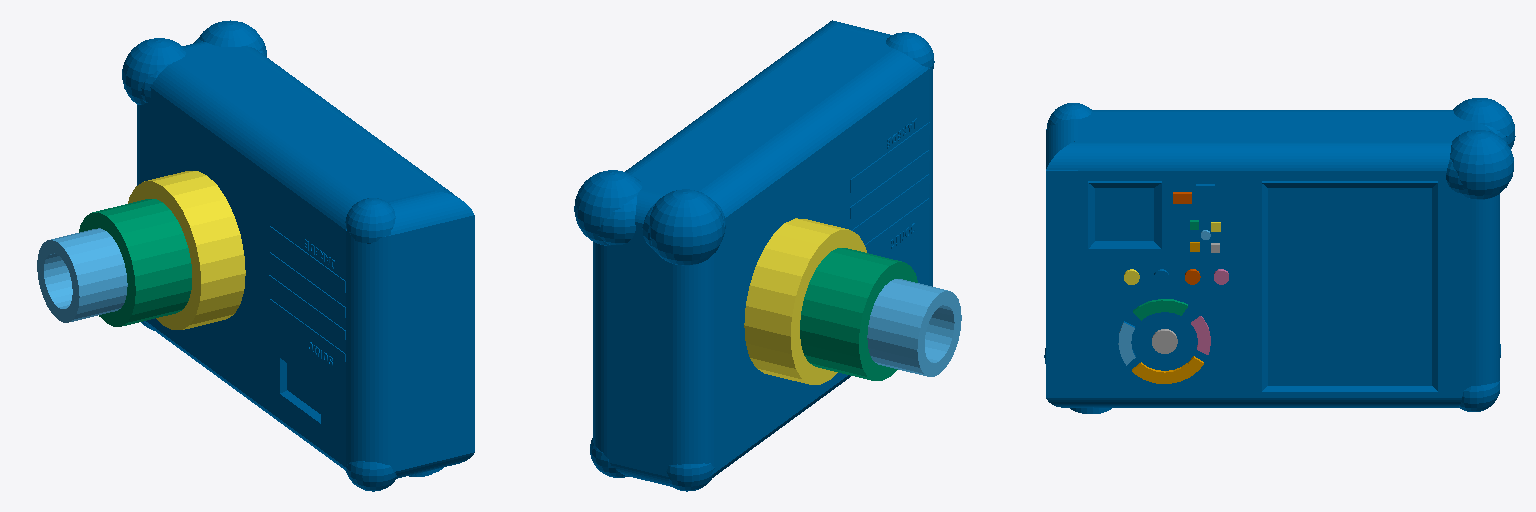
--- Render facts (derived) ---
Views: 3 orthographic renders of the robot side by side, from view 1: azimuth 30°, elevation 25°; view 2: azimuth 150°, elevation 25°; view 3: azimuth 270°, elevation 25°.
Model partnet_3d2c8bbab810c2de8ec5129c0f183bb9 with 21 links and 20 joints (3 continuous, 16 prismatic, 1 fixed), rooted at base, posed every joint at zero.
Links seen in each view (by area): view 1: link_19, link_2, link_1, link_0; view 2: link_19, link_2, link_1, link_0; view 3: link_19, link_15, link_17.
Link boxes in pixels (<box>): link_19: <box>122,20,474,491</box>; link_2: <box>128,171,245,329</box>; link_1: <box>79,199,191,326</box>; link_0: <box>37,228,127,322</box>; link_19: <box>574,20,934,491</box>; link_2: <box>744,218,866,384</box>; link_1: <box>800,248,917,380</box>; link_0: <box>867,279,961,376</box>; link_19: <box>1044,98,1515,413</box>; link_15: <box>1132,356,1203,383</box>; link_17: <box>1133,299,1187,320</box>.
Size in the robot's own frame: 1.15 by 1.77 by 1.16 metres.
89 mesh visuals loaded from 89 distinct referenced files (89 OBJ).

URDF robot description (partnet_3d2c8bbab810c2de8ec5129c0f183bb9):
<?xml version="1.0" ?>
<robot name="partnet_3d2c8bbab810c2de8ec5129c0f183bb9">
	<link name="base"/>
	<link name="link_0">
		<visual name="lens-1">
			<origin xyz="0.23602050000000002 -0.007778355714815319 0"/>
			<geometry>
				<mesh filename="textured_objs/original-38.obj"/>
			</geometry>
		</visual>
		<visual name="lens-1">
			<origin xyz="0.23602050000000002 -0.007778355714815319 0"/>
			<geometry>
				<mesh filename="textured_objs/original-48.obj"/>
			</geometry>
		</visual>
		<collision>
			<origin xyz="0.23602050000000002 -0.007778355714815319 0"/>
			<geometry>
				<mesh filename="textured_objs/original-38.obj"/>
			</geometry>
		</collision>
		<collision>
			<origin xyz="0.23602050000000002 -0.007778355714815319 0"/>
			<geometry>
				<mesh filename="textured_objs/original-48.obj"/>
			</geometry>
		</collision>
	</link>
	<joint name="joint_0" type="continuous">
		<origin xyz="-0.23602050000000002 0.007778355714815319 0"/>
		<axis xyz="0 0 -1"/>
		<child link="link_0"/>
		<parent link="link_19"/>
	</joint>
	<link name="link_1">
		<visual name="lens-2">
			<origin xyz="0.23602050000000002 -0.007778355714815319 0"/>
			<geometry>
				<mesh filename="textured_objs/original-46.obj"/>
			</geometry>
		</visual>
		<collision>
			<origin xyz="0.23602050000000002 -0.007778355714815319 0"/>
			<geometry>
				<mesh filename="textured_objs/original-46.obj"/>
			</geometry>
		</collision>
	</link>
	<joint name="joint_1" type="continuous">
		<origin xyz="-0.23602050000000002 0.007778355714815319 0"/>
		<axis xyz="0 0 -1"/>
		<child link="link_1"/>
		<parent link="link_19"/>
	</joint>
	<link name="link_2">
		<visual name="lens-3">
			<origin xyz="0.23602050000000002 -0.007778355714815319 0"/>
			<geometry>
				<mesh filename="textured_objs/original-47.obj"/>
			</geometry>
		</visual>
		<collision>
			<origin xyz="0.23602050000000002 -0.007778355714815319 0"/>
			<geometry>
				<mesh filename="textured_objs/original-47.obj"/>
			</geometry>
		</collision>
	</link>
	<joint name="joint_2" type="continuous">
		<origin xyz="-0.23602050000000002 0.007778355714815319 0"/>
		<axis xyz="0 0 -1"/>
		<child link="link_2"/>
		<parent link="link_19"/>
	</joint>
	<link name="link_3">
		<visual name="button-4">
			<origin xyz="0 0 0"/>
			<geometry>
				<mesh filename="textured_objs/original-10.obj"/>
			</geometry>
		</visual>
		<collision>
			<origin xyz="0 0 0"/>
			<geometry>
				<mesh filename="textured_objs/original-10.obj"/>
			</geometry>
		</collision>
	</link>
	<joint name="joint_3" type="prismatic">
		<origin xyz="0 0 0"/>
		<axis xyz="0 0 1"/>
		<child link="link_3"/>
		<parent link="link_19"/>
		<limit lower="0" upper="0.01200000000000001"/>
	</joint>
	<link name="link_4">
		<visual name="button-5">
			<origin xyz="0 0 0"/>
			<geometry>
				<mesh filename="textured_objs/original-16.obj"/>
			</geometry>
		</visual>
		<collision>
			<origin xyz="0 0 0"/>
			<geometry>
				<mesh filename="textured_objs/original-16.obj"/>
			</geometry>
		</collision>
	</link>
	<joint name="joint_4" type="prismatic">
		<origin xyz="0 0 0"/>
		<axis xyz="0 0 1"/>
		<child link="link_4"/>
		<parent link="link_19"/>
		<limit lower="0" upper="0.01200000000000001"/>
	</joint>
	<link name="link_5">
		<visual name="button-6">
			<origin xyz="0 0 0"/>
			<geometry>
				<mesh filename="textured_objs/original-31.obj"/>
			</geometry>
		</visual>
		<collision>
			<origin xyz="0 0 0"/>
			<geometry>
				<mesh filename="textured_objs/original-31.obj"/>
			</geometry>
		</collision>
	</link>
	<joint name="joint_5" type="prismatic">
		<origin xyz="0 0 0"/>
		<axis xyz="0 0 1"/>
		<child link="link_5"/>
		<parent link="link_19"/>
		<limit lower="0" upper="0.01200000000000001"/>
	</joint>
	<link name="link_6">
		<visual name="button-7">
			<origin xyz="0 0 0"/>
			<geometry>
				<mesh filename="textured_objs/original-42.obj"/>
			</geometry>
		</visual>
		<collision>
			<origin xyz="0 0 0"/>
			<geometry>
				<mesh filename="textured_objs/original-42.obj"/>
			</geometry>
		</collision>
	</link>
	<joint name="joint_6" type="prismatic">
		<origin xyz="0 0 0"/>
		<axis xyz="0 0 1"/>
		<child link="link_6"/>
		<parent link="link_19"/>
		<limit lower="0" upper="0.01200000000000001"/>
	</joint>
	<link name="link_7">
		<visual name="button-8">
			<origin xyz="0 0 0"/>
			<geometry>
				<mesh filename="textured_objs/original-28.obj"/>
			</geometry>
		</visual>
		<collision>
			<origin xyz="0 0 0"/>
			<geometry>
				<mesh filename="textured_objs/original-28.obj"/>
			</geometry>
		</collision>
	</link>
	<joint name="joint_7" type="prismatic">
		<origin xyz="0 0 0"/>
		<axis xyz="0 0 1"/>
		<child link="link_7"/>
		<parent link="link_19"/>
		<limit lower="0" upper="0.01200000000000001"/>
	</joint>
	<link name="link_8">
		<visual name="button-9">
			<origin xyz="0 0 0"/>
			<geometry>
				<mesh filename="textured_objs/original-15.obj"/>
			</geometry>
		</visual>
		<collision>
			<origin xyz="0 0 0"/>
			<geometry>
				<mesh filename="textured_objs/original-15.obj"/>
			</geometry>
		</collision>
	</link>
	<joint name="joint_8" type="prismatic">
		<origin xyz="0 0 0"/>
		<axis xyz="0 0 1"/>
		<child link="link_8"/>
		<parent link="link_19"/>
		<limit lower="0" upper="0.01200000000000001"/>
	</joint>
	<link name="link_9">
		<visual name="button-10">
			<origin xyz="0 0 0"/>
			<geometry>
				<mesh filename="textured_objs/original-56.obj"/>
			</geometry>
		</visual>
		<collision>
			<origin xyz="0 0 0"/>
			<geometry>
				<mesh filename="textured_objs/original-56.obj"/>
			</geometry>
		</collision>
	</link>
	<joint name="joint_9" type="prismatic">
		<origin xyz="0 0 0"/>
		<axis xyz="0 0 1"/>
		<child link="link_9"/>
		<parent link="link_19"/>
		<limit lower="0" upper="0.01200000000000001"/>
	</joint>
	<link name="link_10">
		<visual name="button-11">
			<origin xyz="0 0 0"/>
			<geometry>
				<mesh filename="textured_objs/original-30.obj"/>
			</geometry>
		</visual>
		<collision>
			<origin xyz="0 0 0"/>
			<geometry>
				<mesh filename="textured_objs/original-30.obj"/>
			</geometry>
		</collision>
	</link>
	<joint name="joint_10" type="prismatic">
		<origin xyz="0 0 0"/>
		<axis xyz="0 0 1"/>
		<child link="link_10"/>
		<parent link="link_19"/>
		<limit lower="0" upper="0.01200000000000001"/>
	</joint>
	<link name="link_11">
		<visual name="button-12">
			<origin xyz="0 0 0"/>
			<geometry>
				<mesh filename="textured_objs/original-61.obj"/>
			</geometry>
		</visual>
		<collision>
			<origin xyz="0 0 0"/>
			<geometry>
				<mesh filename="textured_objs/original-61.obj"/>
			</geometry>
		</collision>
	</link>
	<joint name="joint_11" type="prismatic">
		<origin xyz="0 0 0"/>
		<axis xyz="0 0 1"/>
		<child link="link_11"/>
		<parent link="link_19"/>
		<limit lower="0" upper="0.01200000000000001"/>
	</joint>
	<link name="link_12">
		<visual name="button-13">
			<origin xyz="0 0 0"/>
			<geometry>
				<mesh filename="textured_objs/original-58.obj"/>
			</geometry>
		</visual>
		<collision>
			<origin xyz="0 0 0"/>
			<geometry>
				<mesh filename="textured_objs/original-58.obj"/>
			</geometry>
		</collision>
	</link>
	<joint name="joint_12" type="prismatic">
		<origin xyz="0 0 0"/>
		<axis xyz="0 0 1"/>
		<child link="link_12"/>
		<parent link="link_19"/>
		<limit lower="0" upper="0.01200000000000001"/>
	</joint>
	<link name="link_13">
		<visual name="button-18">
			<origin xyz="0 0 0"/>
			<geometry>
				<mesh filename="textured_objs/original-22.obj"/>
			</geometry>
		</visual>
		<collision>
			<origin xyz="0 0 0"/>
			<geometry>
				<mesh filename="textured_objs/original-22.obj"/>
			</geometry>
		</collision>
	</link>
	<joint name="joint_13" type="prismatic">
		<origin xyz="0 0 0"/>
		<axis xyz="0 0 1"/>
		<child link="link_13"/>
		<parent link="link_19"/>
		<limit lower="0" upper="0.01200000000000001"/>
	</joint>
	<link name="link_14">
		<visual name="button-19">
			<origin xyz="0 0 0"/>
			<geometry>
				<mesh filename="textured_objs/original-13.obj"/>
			</geometry>
		</visual>
		<collision>
			<origin xyz="0 0 0"/>
			<geometry>
				<mesh filename="textured_objs/original-13.obj"/>
			</geometry>
		</collision>
	</link>
	<joint name="joint_14" type="prismatic">
		<origin xyz="0 0 0"/>
		<axis xyz="0 0 1"/>
		<child link="link_14"/>
		<parent link="link_19"/>
		<limit lower="0" upper="0.01200000000000001"/>
	</joint>
	<link name="link_15">
		<visual name="button-20">
			<origin xyz="0 0 0"/>
			<geometry>
				<mesh filename="textured_objs/original-20.obj"/>
			</geometry>
		</visual>
		<collision>
			<origin xyz="0 0 0"/>
			<geometry>
				<mesh filename="textured_objs/original-20.obj"/>
			</geometry>
		</collision>
	</link>
	<joint name="joint_15" type="prismatic">
		<origin xyz="0 0 0"/>
		<axis xyz="0 0 1"/>
		<child link="link_15"/>
		<parent link="link_19"/>
		<limit lower="0" upper="0.01200000000000001"/>
	</joint>
	<link name="link_16">
		<visual name="button-21">
			<origin xyz="0 0 0"/>
			<geometry>
				<mesh filename="textured_objs/original-9.obj"/>
			</geometry>
		</visual>
		<collision>
			<origin xyz="0 0 0"/>
			<geometry>
				<mesh filename="textured_objs/original-9.obj"/>
			</geometry>
		</collision>
	</link>
	<joint name="joint_16" type="prismatic">
		<origin xyz="0 0 0"/>
		<axis xyz="0 0 1"/>
		<child link="link_16"/>
		<parent link="link_19"/>
		<limit lower="0" upper="0.01200000000000001"/>
	</joint>
	<link name="link_17">
		<visual name="button-22">
			<origin xyz="0 0 0"/>
			<geometry>
				<mesh filename="textured_objs/original-5.obj"/>
			</geometry>
		</visual>
		<collision>
			<origin xyz="0 0 0"/>
			<geometry>
				<mesh filename="textured_objs/original-5.obj"/>
			</geometry>
		</collision>
	</link>
	<joint name="joint_17" type="prismatic">
		<origin xyz="0 0 0"/>
		<axis xyz="0 0 1"/>
		<child link="link_17"/>
		<parent link="link_19"/>
		<limit lower="0" upper="0.01200000000000001"/>
	</joint>
	<link name="link_18">
		<visual name="button-23">
			<origin xyz="0 0 0"/>
			<geometry>
				<mesh filename="textured_objs/original-40.obj"/>
			</geometry>
		</visual>
		<collision>
			<origin xyz="0 0 0"/>
			<geometry>
				<mesh filename="textured_objs/original-40.obj"/>
			</geometry>
		</collision>
	</link>
	<joint name="joint_18" type="prismatic">
		<origin xyz="0 0 0"/>
		<axis xyz="0 0 1"/>
		<child link="link_18"/>
		<parent link="link_19"/>
		<limit lower="0" upper="0.01200000000000001"/>
	</joint>
	<link name="link_19">
		<visual name="base_body-24">
			<origin xyz="0 0 0"/>
			<geometry>
				<mesh filename="textured_objs/original-29.obj"/>
			</geometry>
		</visual>
		<visual name="base_body-24">
			<origin xyz="0 0 0"/>
			<geometry>
				<mesh filename="textured_objs/original-21.obj"/>
			</geometry>
		</visual>
		<visual name="base_body-24">
			<origin xyz="0 0 0"/>
			<geometry>
				<mesh filename="textured_objs/original-36.obj"/>
			</geometry>
		</visual>
		<visual name="base_body-24">
			<origin xyz="0 0 0"/>
			<geometry>
				<mesh filename="textured_objs/original-41.obj"/>
			</geometry>
		</visual>
		<visual name="base_body-24">
			<origin xyz="0 0 0"/>
			<geometry>
				<mesh filename="textured_objs/original-64.obj"/>
			</geometry>
		</visual>
		<visual name="base_body-24">
			<origin xyz="0 0 0"/>
			<geometry>
				<mesh filename="textured_objs/original-43.obj"/>
			</geometry>
		</visual>
		<visual name="base_body-24">
			<origin xyz="0 0 0"/>
			<geometry>
				<mesh filename="textured_objs/original-71.obj"/>
			</geometry>
		</visual>
		<visual name="base_body-24">
			<origin xyz="0 0 0"/>
			<geometry>
				<mesh filename="textured_objs/original-52.obj"/>
			</geometry>
		</visual>
		<visual name="base_body-24">
			<origin xyz="0 0 0"/>
			<geometry>
				<mesh filename="textured_objs/original-83.obj"/>
			</geometry>
		</visual>
		<visual name="base_body-24">
			<origin xyz="0 0 0"/>
			<geometry>
				<mesh filename="textured_objs/original-26.obj"/>
			</geometry>
		</visual>
		<visual name="base_body-24">
			<origin xyz="0 0 0"/>
			<geometry>
				<mesh filename="textured_objs/original-4.obj"/>
			</geometry>
		</visual>
		<visual name="base_body-24">
			<origin xyz="0 0 0"/>
			<geometry>
				<mesh filename="textured_objs/original-3.obj"/>
			</geometry>
		</visual>
		<visual name="base_body-24">
			<origin xyz="0 0 0"/>
			<geometry>
				<mesh filename="textured_objs/original-65.obj"/>
			</geometry>
		</visual>
		<visual name="base_body-24">
			<origin xyz="0 0 0"/>
			<geometry>
				<mesh filename="textured_objs/original-33.obj"/>
			</geometry>
		</visual>
		<visual name="base_body-24">
			<origin xyz="0 0 0"/>
			<geometry>
				<mesh filename="textured_objs/original-2.obj"/>
			</geometry>
		</visual>
		<visual name="base_body-24">
			<origin xyz="0 0 0"/>
			<geometry>
				<mesh filename="textured_objs/original-44.obj"/>
			</geometry>
		</visual>
		<visual name="base_body-24">
			<origin xyz="0 0 0"/>
			<geometry>
				<mesh filename="textured_objs/original-86.obj"/>
			</geometry>
		</visual>
		<visual name="base_body-24">
			<origin xyz="0 0 0"/>
			<geometry>
				<mesh filename="textured_objs/original-8.obj"/>
			</geometry>
		</visual>
		<visual name="base_body-24">
			<origin xyz="0 0 0"/>
			<geometry>
				<mesh filename="textured_objs/original-45.obj"/>
			</geometry>
		</visual>
		<visual name="base_body-24">
			<origin xyz="0 0 0"/>
			<geometry>
				<mesh filename="textured_objs/original-35.obj"/>
			</geometry>
		</visual>
		<visual name="base_body-24">
			<origin xyz="0 0 0"/>
			<geometry>
				<mesh filename="textured_objs/original-49.obj"/>
			</geometry>
		</visual>
		<visual name="base_body-24">
			<origin xyz="0 0 0"/>
			<geometry>
				<mesh filename="textured_objs/original-39.obj"/>
			</geometry>
		</visual>
		<visual name="base_body-24">
			<origin xyz="0 0 0"/>
			<geometry>
				<mesh filename="textured_objs/original-59.obj"/>
			</geometry>
		</visual>
		<visual name="base_body-24">
			<origin xyz="0 0 0"/>
			<geometry>
				<mesh filename="textured_objs/original-77.obj"/>
			</geometry>
		</visual>
		<visual name="base_body-24">
			<origin xyz="0 0 0"/>
			<geometry>
				<mesh filename="textured_objs/original-54.obj"/>
			</geometry>
		</visual>
		<visual name="base_body-24">
			<origin xyz="0 0 0"/>
			<geometry>
				<mesh filename="textured_objs/original-63.obj"/>
			</geometry>
		</visual>
		<visual name="base_body-24">
			<origin xyz="0 0 0"/>
			<geometry>
				<mesh filename="textured_objs/original-27.obj"/>
			</geometry>
		</visual>
		<visual name="base_body-24">
			<origin xyz="0 0 0"/>
			<geometry>
				<mesh filename="textured_objs/original-87.obj"/>
			</geometry>
		</visual>
		<visual name="base_body-24">
			<origin xyz="0 0 0"/>
			<geometry>
				<mesh filename="textured_objs/original-55.obj"/>
			</geometry>
		</visual>
		<visual name="base_body-24">
			<origin xyz="0 0 0"/>
			<geometry>
				<mesh filename="textured_objs/original-50.obj"/>
			</geometry>
		</visual>
		<visual name="base_body-24">
			<origin xyz="0 0 0"/>
			<geometry>
				<mesh filename="textured_objs/original-6.obj"/>
			</geometry>
		</visual>
		<visual name="base_body-24">
			<origin xyz="0 0 0"/>
			<geometry>
				<mesh filename="textured_objs/original-37.obj"/>
			</geometry>
		</visual>
		<visual name="base_body-24">
			<origin xyz="0 0 0"/>
			<geometry>
				<mesh filename="textured_objs/original-85.obj"/>
			</geometry>
		</visual>
		<visual name="base_body-24">
			<origin xyz="0 0 0"/>
			<geometry>
				<mesh filename="textured_objs/original-76.obj"/>
			</geometry>
		</visual>
		<visual name="base_body-24">
			<origin xyz="0 0 0"/>
			<geometry>
				<mesh filename="textured_objs/original-72.obj"/>
			</geometry>
		</visual>
		<visual name="base_body-24">
			<origin xyz="0 0 0"/>
			<geometry>
				<mesh filename="textured_objs/original-62.obj"/>
			</geometry>
		</visual>
		<visual name="base_body-24">
			<origin xyz="0 0 0"/>
			<geometry>
				<mesh filename="textured_objs/original-75.obj"/>
			</geometry>
		</visual>
		<visual name="base_body-24">
			<origin xyz="0 0 0"/>
			<geometry>
				<mesh filename="textured_objs/original-23.obj"/>
			</geometry>
		</visual>
		<visual name="base_body-24">
			<origin xyz="0 0 0"/>
			<geometry>
				<mesh filename="textured_objs/original-66.obj"/>
			</geometry>
		</visual>
		<visual name="base_body-24">
			<origin xyz="0 0 0"/>
			<geometry>
				<mesh filename="textured_objs/original-67.obj"/>
			</geometry>
		</visual>
		<visual name="base_body-24">
			<origin xyz="0 0 0"/>
			<geometry>
				<mesh filename="textured_objs/original-69.obj"/>
			</geometry>
		</visual>
		<visual name="base_body-24">
			<origin xyz="0 0 0"/>
			<geometry>
				<mesh filename="textured_objs/original-11.obj"/>
			</geometry>
		</visual>
		<visual name="base_body-24">
			<origin xyz="0 0 0"/>
			<geometry>
				<mesh filename="textured_objs/original-68.obj"/>
			</geometry>
		</visual>
		<visual name="base_body-24">
			<origin xyz="0 0 0"/>
			<geometry>
				<mesh filename="textured_objs/original-80.obj"/>
			</geometry>
		</visual>
		<visual name="base_body-24">
			<origin xyz="0 0 0"/>
			<geometry>
				<mesh filename="textured_objs/original-34.obj"/>
			</geometry>
		</visual>
		<visual name="base_body-24">
			<origin xyz="0 0 0"/>
			<geometry>
				<mesh filename="textured_objs/original-18.obj"/>
			</geometry>
		</visual>
		<visual name="base_body-24">
			<origin xyz="0 0 0"/>
			<geometry>
				<mesh filename="textured_objs/original-70.obj"/>
			</geometry>
		</visual>
		<visual name="base_body-24">
			<origin xyz="0 0 0"/>
			<geometry>
				<mesh filename="textured_objs/original-91.obj"/>
			</geometry>
		</visual>
		<visual name="base_body-24">
			<origin xyz="0 0 0"/>
			<geometry>
				<mesh filename="textured_objs/original-25.obj"/>
			</geometry>
		</visual>
		<visual name="base_body-24">
			<origin xyz="0 0 0"/>
			<geometry>
				<mesh filename="textured_objs/original-17.obj"/>
			</geometry>
		</visual>
		<visual name="base_body-24">
			<origin xyz="0 0 0"/>
			<geometry>
				<mesh filename="textured_objs/original-73.obj"/>
			</geometry>
		</visual>
		<visual name="base_body-24">
			<origin xyz="0 0 0"/>
			<geometry>
				<mesh filename="textured_objs/original-12.obj"/>
			</geometry>
		</visual>
		<visual name="base_body-24">
			<origin xyz="0 0 0"/>
			<geometry>
				<mesh filename="textured_objs/original-92.obj"/>
			</geometry>
		</visual>
		<visual name="base_body-24">
			<origin xyz="0 0 0"/>
			<geometry>
				<mesh filename="textured_objs/original-79.obj"/>
			</geometry>
		</visual>
		<visual name="base_body-24">
			<origin xyz="0 0 0"/>
			<geometry>
				<mesh filename="textured_objs/original-24.obj"/>
			</geometry>
		</visual>
		<visual name="base_body-24">
			<origin xyz="0 0 0"/>
			<geometry>
				<mesh filename="textured_objs/original-88.obj"/>
			</geometry>
		</visual>
		<visual name="base_body-24">
			<origin xyz="0 0 0"/>
			<geometry>
				<mesh filename="textured_objs/original-32.obj"/>
			</geometry>
		</visual>
		<visual name="base_body-24">
			<origin xyz="0 0 0"/>
			<geometry>
				<mesh filename="textured_objs/original-53.obj"/>
			</geometry>
		</visual>
		<visual name="base_body-24">
			<origin xyz="0 0 0"/>
			<geometry>
				<mesh filename="textured_objs/original-7.obj"/>
			</geometry>
		</visual>
		<visual name="base_body-24">
			<origin xyz="0 0 0"/>
			<geometry>
				<mesh filename="textured_objs/original-1.obj"/>
			</geometry>
		</visual>
		<visual name="base_body-24">
			<origin xyz="0 0 0"/>
			<geometry>
				<mesh filename="textured_objs/original-84.obj"/>
			</geometry>
		</visual>
		<visual name="base_body-24">
			<origin xyz="0 0 0"/>
			<geometry>
				<mesh filename="textured_objs/original-78.obj"/>
			</geometry>
		</visual>
		<visual name="base_body-24">
			<origin xyz="0 0 0"/>
			<geometry>
				<mesh filename="textured_objs/original-89.obj"/>
			</geometry>
		</visual>
		<visual name="base_body-24">
			<origin xyz="0 0 0"/>
			<geometry>
				<mesh filename="textured_objs/original-14.obj"/>
			</geometry>
		</visual>
		<visual name="base_body-24">
			<origin xyz="0 0 0"/>
			<geometry>
				<mesh filename="textured_objs/original-82.obj"/>
			</geometry>
		</visual>
		<visual name="base_body-24">
			<origin xyz="0 0 0"/>
			<geometry>
				<mesh filename="textured_objs/original-60.obj"/>
			</geometry>
		</visual>
		<visual name="base_body-24">
			<origin xyz="0 0 0"/>
			<geometry>
				<mesh filename="textured_objs/original-19.obj"/>
			</geometry>
		</visual>
		<visual name="base_body-24">
			<origin xyz="0 0 0"/>
			<geometry>
				<mesh filename="textured_objs/original-90.obj"/>
			</geometry>
		</visual>
		<visual name="base_body-24">
			<origin xyz="0 0 0"/>
			<geometry>
				<mesh filename="textured_objs/original-57.obj"/>
			</geometry>
		</visual>
		<collision>
			<origin xyz="0 0 0"/>
			<geometry>
				<mesh filename="textured_objs/original-29.obj"/>
			</geometry>
		</collision>
		<collision>
			<origin xyz="0 0 0"/>
			<geometry>
				<mesh filename="textured_objs/original-21.obj"/>
			</geometry>
		</collision>
		<collision>
			<origin xyz="0 0 0"/>
			<geometry>
				<mesh filename="textured_objs/original-36.obj"/>
			</geometry>
		</collision>
		<collision>
			<origin xyz="0 0 0"/>
			<geometry>
				<mesh filename="textured_objs/original-41.obj"/>
			</geometry>
		</collision>
		<collision>
			<origin xyz="0 0 0"/>
			<geometry>
				<mesh filename="textured_objs/original-64.obj"/>
			</geometry>
		</collision>
		<collision>
			<origin xyz="0 0 0"/>
			<geometry>
				<mesh filename="textured_objs/original-43.obj"/>
			</geometry>
		</collision>
		<collision>
			<origin xyz="0 0 0"/>
			<geometry>
				<mesh filename="textured_objs/original-71.obj"/>
			</geometry>
		</collision>
		<collision>
			<origin xyz="0 0 0"/>
			<geometry>
				<mesh filename="textured_objs/original-52.obj"/>
			</geometry>
		</collision>
		<collision>
			<origin xyz="0 0 0"/>
			<geometry>
				<mesh filename="textured_objs/original-83.obj"/>
			</geometry>
		</collision>
		<collision>
			<origin xyz="0 0 0"/>
			<geometry>
				<mesh filename="textured_objs/original-26.obj"/>
			</geometry>
		</collision>
		<collision>
			<origin xyz="0 0 0"/>
			<geometry>
				<mesh filename="textured_objs/original-4.obj"/>
			</geometry>
		</collision>
		<collision>
			<origin xyz="0 0 0"/>
			<geometry>
				<mesh filename="textured_objs/original-3.obj"/>
			</geometry>
		</collision>
		<collision>
			<origin xyz="0 0 0"/>
			<geometry>
				<mesh filename="textured_objs/original-65.obj"/>
			</geometry>
		</collision>
		<collision>
			<origin xyz="0 0 0"/>
			<geometry>
				<mesh filename="textured_objs/original-33.obj"/>
			</geometry>
		</collision>
		<collision>
			<origin xyz="0 0 0"/>
			<geometry>
				<mesh filename="textured_objs/original-2.obj"/>
			</geometry>
		</collision>
		<collision>
			<origin xyz="0 0 0"/>
			<geometry>
				<mesh filename="textured_objs/original-44.obj"/>
			</geometry>
		</collision>
		<collision>
			<origin xyz="0 0 0"/>
			<geometry>
				<mesh filename="textured_objs/original-86.obj"/>
			</geometry>
		</collision>
		<collision>
			<origin xyz="0 0 0"/>
			<geometry>
				<mesh filename="textured_objs/original-8.obj"/>
			</geometry>
		</collision>
		<collision>
			<origin xyz="0 0 0"/>
			<geometry>
				<mesh filename="textured_objs/original-45.obj"/>
			</geometry>
		</collision>
		<collision>
			<origin xyz="0 0 0"/>
			<geometry>
				<mesh filename="textured_objs/original-35.obj"/>
			</geometry>
		</collision>
		<collision>
			<origin xyz="0 0 0"/>
			<geometry>
				<mesh filename="textured_objs/original-49.obj"/>
			</geometry>
		</collision>
		<collision>
			<origin xyz="0 0 0"/>
			<geometry>
				<mesh filename="textured_objs/original-39.obj"/>
			</geometry>
		</collision>
		<collision>
			<origin xyz="0 0 0"/>
			<geometry>
				<mesh filename="textured_objs/original-59.obj"/>
			</geometry>
		</collision>
		<collision>
			<origin xyz="0 0 0"/>
			<geometry>
				<mesh filename="textured_objs/original-77.obj"/>
			</geometry>
		</collision>
		<collision>
			<origin xyz="0 0 0"/>
			<geometry>
				<mesh filename="textured_objs/original-54.obj"/>
			</geometry>
		</collision>
		<collision>
			<origin xyz="0 0 0"/>
			<geometry>
				<mesh filename="textured_objs/original-63.obj"/>
			</geometry>
		</collision>
		<collision>
			<origin xyz="0 0 0"/>
			<geometry>
				<mesh filename="textured_objs/original-27.obj"/>
			</geometry>
		</collision>
		<collision>
			<origin xyz="0 0 0"/>
			<geometry>
				<mesh filename="textured_objs/original-87.obj"/>
			</geometry>
		</collision>
		<collision>
			<origin xyz="0 0 0"/>
			<geometry>
				<mesh filename="textured_objs/original-55.obj"/>
			</geometry>
		</collision>
		<collision>
			<origin xyz="0 0 0"/>
			<geometry>
				<mesh filename="textured_objs/original-50.obj"/>
			</geometry>
		</collision>
		<collision>
			<origin xyz="0 0 0"/>
			<geometry>
				<mesh filename="textured_objs/original-6.obj"/>
			</geometry>
		</collision>
		<collision>
			<origin xyz="0 0 0"/>
			<geometry>
				<mesh filename="textured_objs/original-37.obj"/>
			</geometry>
		</collision>
		<collision>
			<origin xyz="0 0 0"/>
			<geometry>
				<mesh filename="textured_objs/original-85.obj"/>
			</geometry>
		</collision>
		<collision>
			<origin xyz="0 0 0"/>
			<geometry>
				<mesh filename="textured_objs/original-76.obj"/>
			</geometry>
		</collision>
		<collision>
			<origin xyz="0 0 0"/>
			<geometry>
				<mesh filename="textured_objs/original-72.obj"/>
			</geometry>
		</collision>
		<collision>
			<origin xyz="0 0 0"/>
			<geometry>
				<mesh filename="textured_objs/original-62.obj"/>
			</geometry>
		</collision>
		<collision>
			<origin xyz="0 0 0"/>
			<geometry>
				<mesh filename="textured_objs/original-75.obj"/>
			</geometry>
		</collision>
		<collision>
			<origin xyz="0 0 0"/>
			<geometry>
				<mesh filename="textured_objs/original-23.obj"/>
			</geometry>
		</collision>
		<collision>
			<origin xyz="0 0 0"/>
			<geometry>
				<mesh filename="textured_objs/original-66.obj"/>
			</geometry>
		</collision>
		<collision>
			<origin xyz="0 0 0"/>
			<geometry>
				<mesh filename="textured_objs/original-67.obj"/>
			</geometry>
		</collision>
		<collision>
			<origin xyz="0 0 0"/>
			<geometry>
				<mesh filename="textured_objs/original-69.obj"/>
			</geometry>
		</collision>
		<collision>
			<origin xyz="0 0 0"/>
			<geometry>
				<mesh filename="textured_objs/original-11.obj"/>
			</geometry>
		</collision>
		<collision>
			<origin xyz="0 0 0"/>
			<geometry>
				<mesh filename="textured_objs/original-68.obj"/>
			</geometry>
		</collision>
		<collision>
			<origin xyz="0 0 0"/>
			<geometry>
				<mesh filename="textured_objs/original-80.obj"/>
			</geometry>
		</collision>
		<collision>
			<origin xyz="0 0 0"/>
			<geometry>
				<mesh filename="textured_objs/original-34.obj"/>
			</geometry>
		</collision>
		<collision>
			<origin xyz="0 0 0"/>
			<geometry>
				<mesh filename="textured_objs/original-18.obj"/>
			</geometry>
		</collision>
		<collision>
			<origin xyz="0 0 0"/>
			<geometry>
				<mesh filename="textured_objs/original-70.obj"/>
			</geometry>
		</collision>
		<collision>
			<origin xyz="0 0 0"/>
			<geometry>
				<mesh filename="textured_objs/original-91.obj"/>
			</geometry>
		</collision>
		<collision>
			<origin xyz="0 0 0"/>
			<geometry>
				<mesh filename="textured_objs/original-25.obj"/>
			</geometry>
		</collision>
		<collision>
			<origin xyz="0 0 0"/>
			<geometry>
				<mesh filename="textured_objs/original-17.obj"/>
			</geometry>
		</collision>
		<collision>
			<origin xyz="0 0 0"/>
			<geometry>
				<mesh filename="textured_objs/original-73.obj"/>
			</geometry>
		</collision>
		<collision>
			<origin xyz="0 0 0"/>
			<geometry>
				<mesh filename="textured_objs/original-12.obj"/>
			</geometry>
		</collision>
		<collision>
			<origin xyz="0 0 0"/>
			<geometry>
				<mesh filename="textured_objs/original-92.obj"/>
			</geometry>
		</collision>
		<collision>
			<origin xyz="0 0 0"/>
			<geometry>
				<mesh filename="textured_objs/original-79.obj"/>
			</geometry>
		</collision>
		<collision>
			<origin xyz="0 0 0"/>
			<geometry>
				<mesh filename="textured_objs/original-24.obj"/>
			</geometry>
		</collision>
		<collision>
			<origin xyz="0 0 0"/>
			<geometry>
				<mesh filename="textured_objs/original-88.obj"/>
			</geometry>
		</collision>
		<collision>
			<origin xyz="0 0 0"/>
			<geometry>
				<mesh filename="textured_objs/original-32.obj"/>
			</geometry>
		</collision>
		<collision>
			<origin xyz="0 0 0"/>
			<geometry>
				<mesh filename="textured_objs/original-53.obj"/>
			</geometry>
		</collision>
		<collision>
			<origin xyz="0 0 0"/>
			<geometry>
				<mesh filename="textured_objs/original-7.obj"/>
			</geometry>
		</collision>
		<collision>
			<origin xyz="0 0 0"/>
			<geometry>
				<mesh filename="textured_objs/original-1.obj"/>
			</geometry>
		</collision>
		<collision>
			<origin xyz="0 0 0"/>
			<geometry>
				<mesh filename="textured_objs/original-84.obj"/>
			</geometry>
		</collision>
		<collision>
			<origin xyz="0 0 0"/>
			<geometry>
				<mesh filename="textured_objs/original-78.obj"/>
			</geometry>
		</collision>
		<collision>
			<origin xyz="0 0 0"/>
			<geometry>
				<mesh filename="textured_objs/original-89.obj"/>
			</geometry>
		</collision>
		<collision>
			<origin xyz="0 0 0"/>
			<geometry>
				<mesh filename="textured_objs/original-14.obj"/>
			</geometry>
		</collision>
		<collision>
			<origin xyz="0 0 0"/>
			<geometry>
				<mesh filename="textured_objs/original-82.obj"/>
			</geometry>
		</collision>
		<collision>
			<origin xyz="0 0 0"/>
			<geometry>
				<mesh filename="textured_objs/original-60.obj"/>
			</geometry>
		</collision>
		<collision>
			<origin xyz="0 0 0"/>
			<geometry>
				<mesh filename="textured_objs/original-19.obj"/>
			</geometry>
		</collision>
		<collision>
			<origin xyz="0 0 0"/>
			<geometry>
				<mesh filename="textured_objs/original-90.obj"/>
			</geometry>
		</collision>
		<collision>
			<origin xyz="0 0 0"/>
			<geometry>
				<mesh filename="textured_objs/original-57.obj"/>
			</geometry>
		</collision>
	</link>
	<joint name="joint_19" type="fixed">
		<origin rpy="1.570796326794897 0 -1.570796326794897" xyz="0 0 0"/>
		<child link="link_19"/>
		<parent link="base"/>
	</joint>
</robot>
